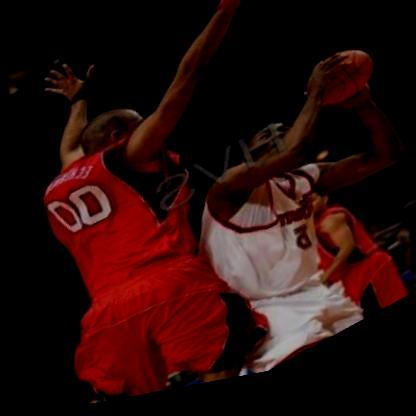basketball: (292, 46, 386, 136)
